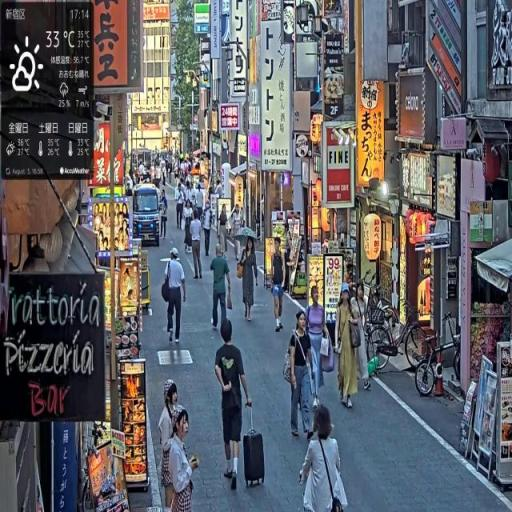person: (215, 318, 256, 491), (299, 402, 347, 512), (286, 307, 315, 445), (164, 406, 200, 512), (336, 287, 360, 409), (351, 281, 375, 393), (163, 248, 188, 345), (237, 236, 260, 325), (211, 243, 233, 334), (270, 236, 287, 334), (190, 210, 204, 285), (219, 203, 231, 259), (203, 204, 214, 260), (183, 200, 194, 256), (176, 183, 185, 231)
